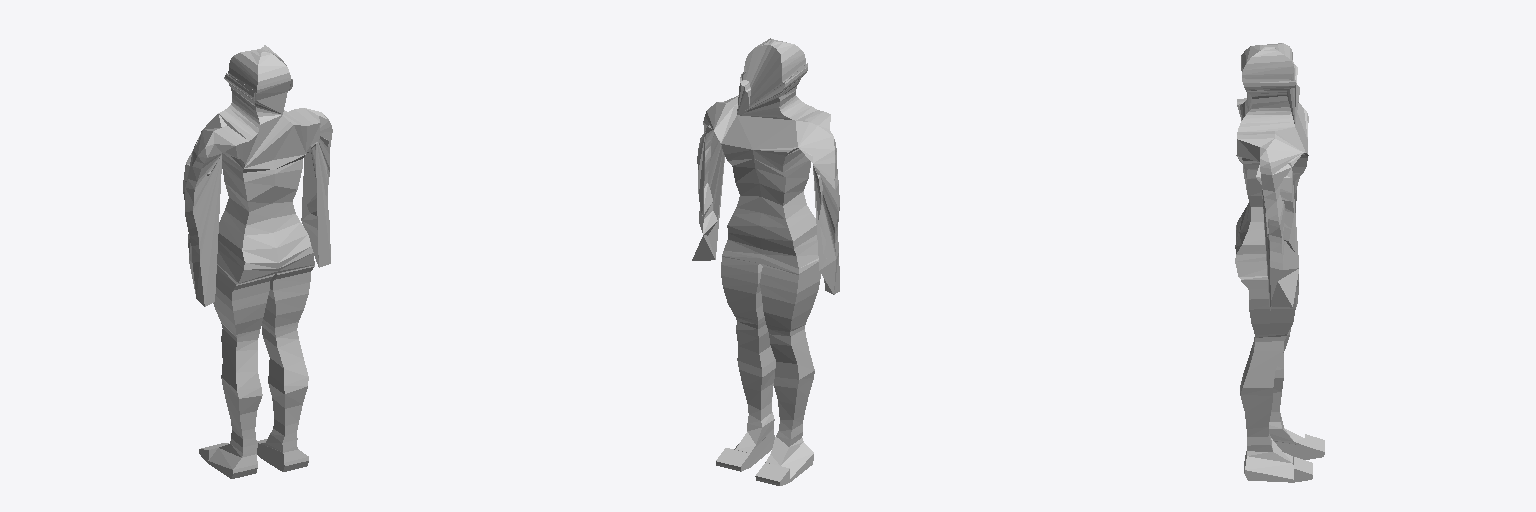
File: woman_000003.obj
3 renders of one model, left to right at view 1: azimuth 30°, elevation 25°; view 2: azimuth 150°, elevation 25°; view 3: azimuth 270°, elevation 25°, orthographic.
Visible parts, largest first — view 1: Cube_Cube.001; view 2: Cube_Cube.001; view 3: Cube_Cube.001.
Part boxes in pixels (left/top/right/bottom): Cube_Cube.001: left=183, top=45, right=332, bottom=478; Cube_Cube.001: left=692, top=38, right=839, bottom=485; Cube_Cube.001: left=1235, top=43, right=1324, bottom=482.
Bounding box in the file's own units: 3.52 × 9.95 × 1.94.